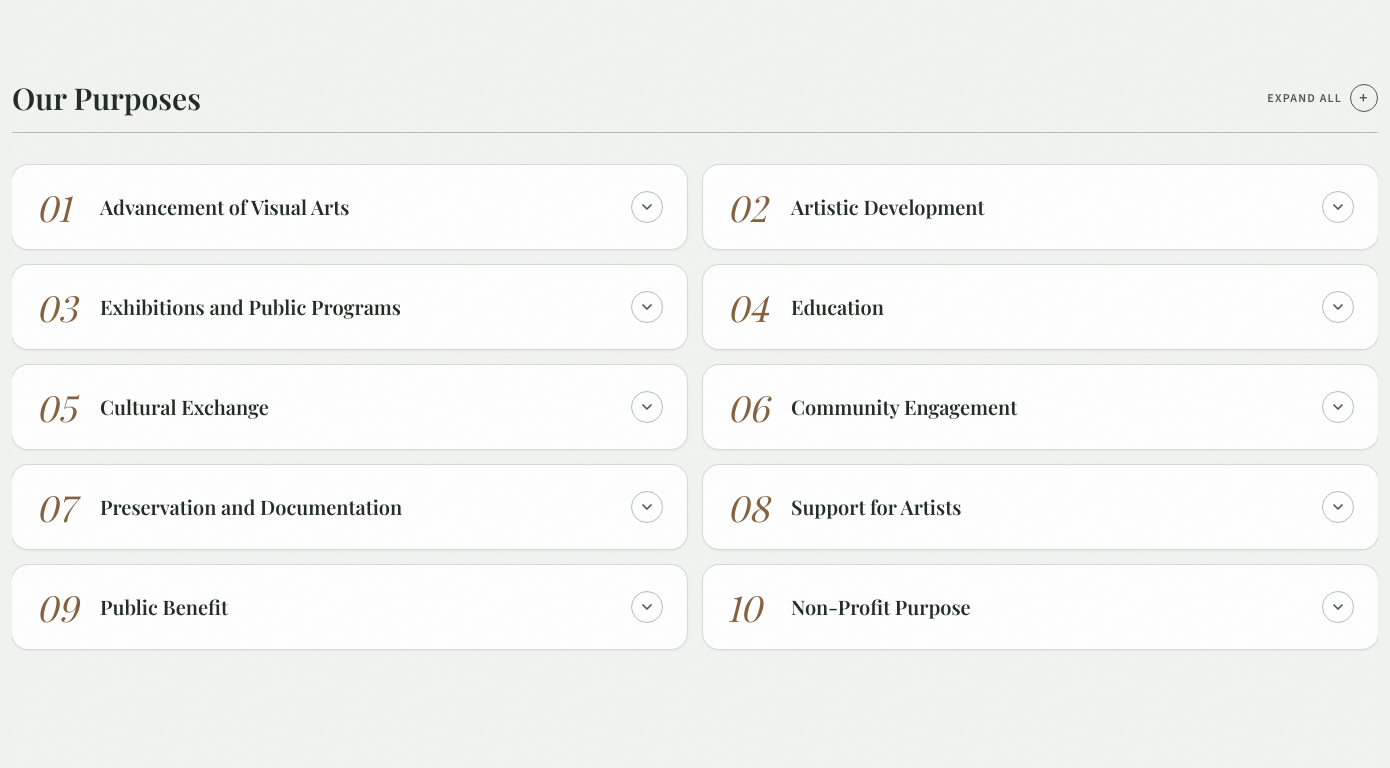
Test case: PurposesSection › opens one purpose on its own, leaving the rest closed
Click the button "10 Non-Profit Purpose" at (744, 607), box [703, 565, 1378, 649]
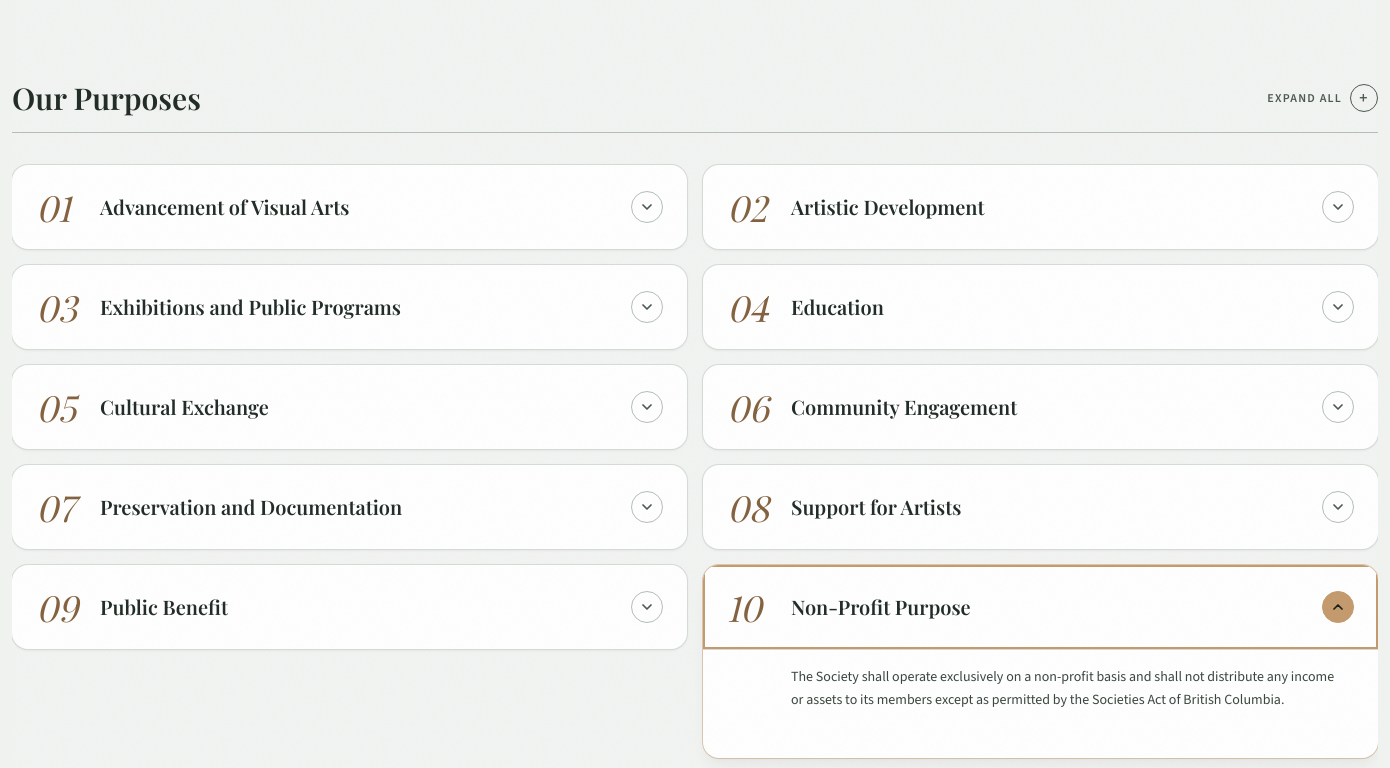
expect the button "10 Non-Profit Purpose" is expanded: met, box [703, 565, 1378, 649]
expect the element named "Non-Profit Purpose" shows "The Society shall operate exclusively on a non-profit basis and shall not distribute any income or assets to its members except as permitted by the Societies Ac": met, box [791, 667, 1334, 709]
